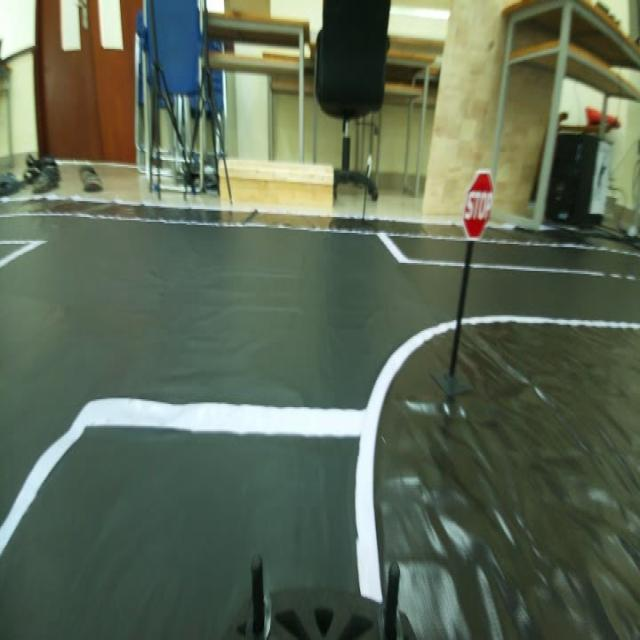stop: (458, 165, 498, 242)
